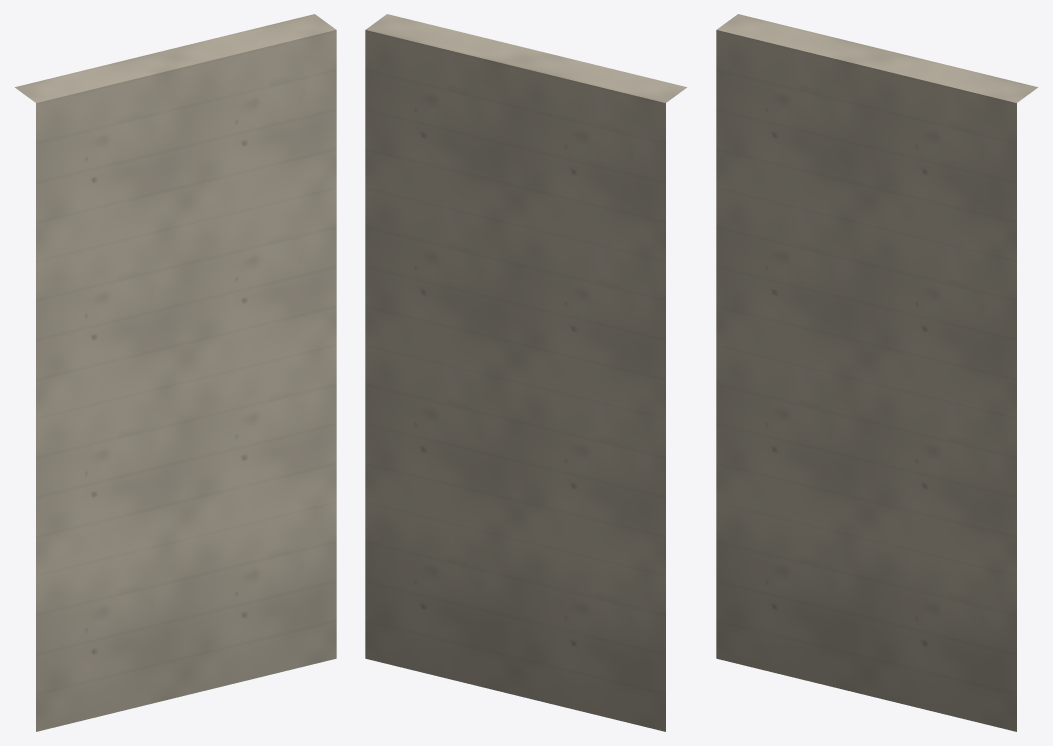
Rendered from wall_bunker_plain.glb.
The picture shows the model from 3 angles, left to right: view 1: azimuth 30°, elevation 25°; view 2: azimuth 150°, elevation 25°; view 3: azimuth 330°, elevation 25°; orthographic projection.
Visible parts, largest first — view 1: wall_bunker_plain; view 2: wall_bunker_plain; view 3: wall_bunker_plain.
Boxes of the visible parts, x1,y1,x2,y2 form: wall_bunker_plain: [15, 14, 336, 731]; wall_bunker_plain: [365, 14, 686, 731]; wall_bunker_plain: [716, 14, 1037, 731].
Size of the model in its own units: 2 by 4 by 0.25.
Materials: 1 (1 with a texture image).
